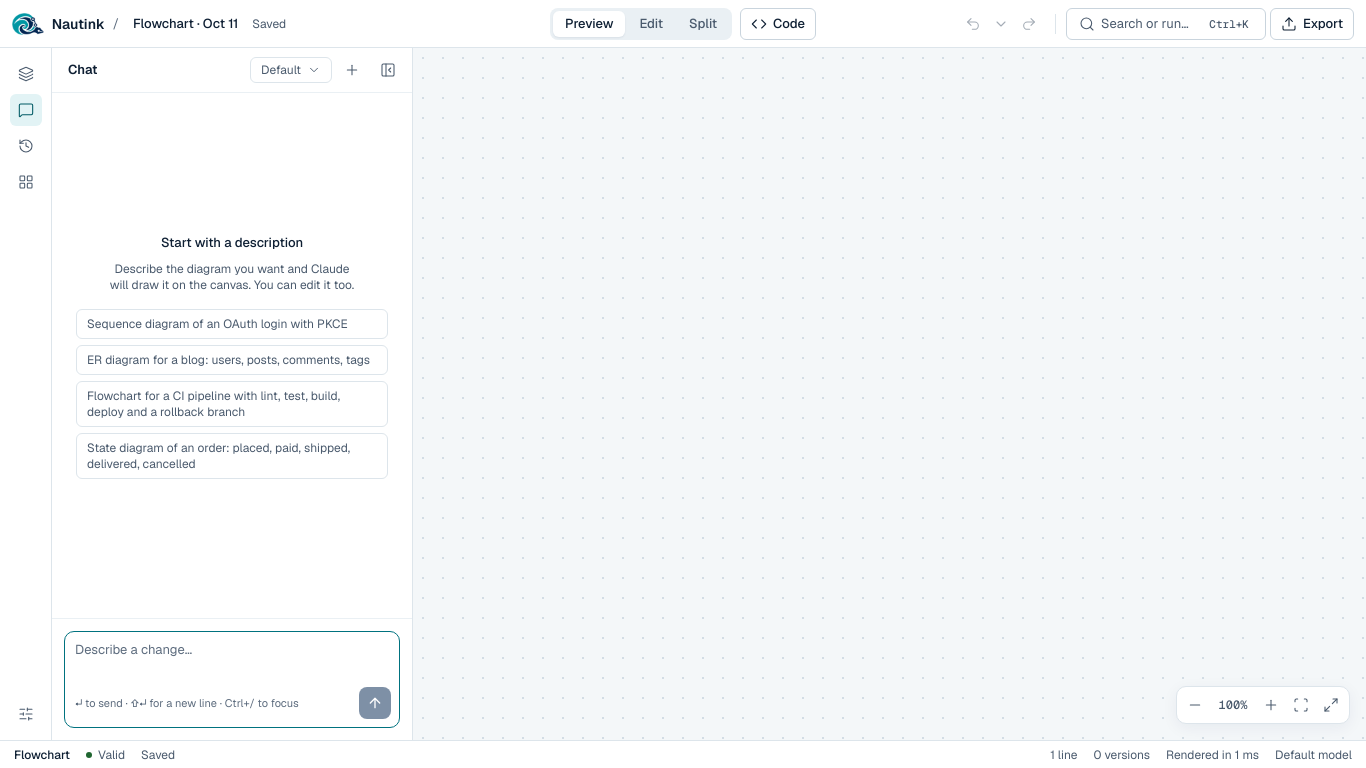
Test case: reviewing a change in the app › shows the bar and the waiting card, rejects, shows again and accepts with Enter
The width and height of the screenshot is (1366, 768).
Type keys "Change it"
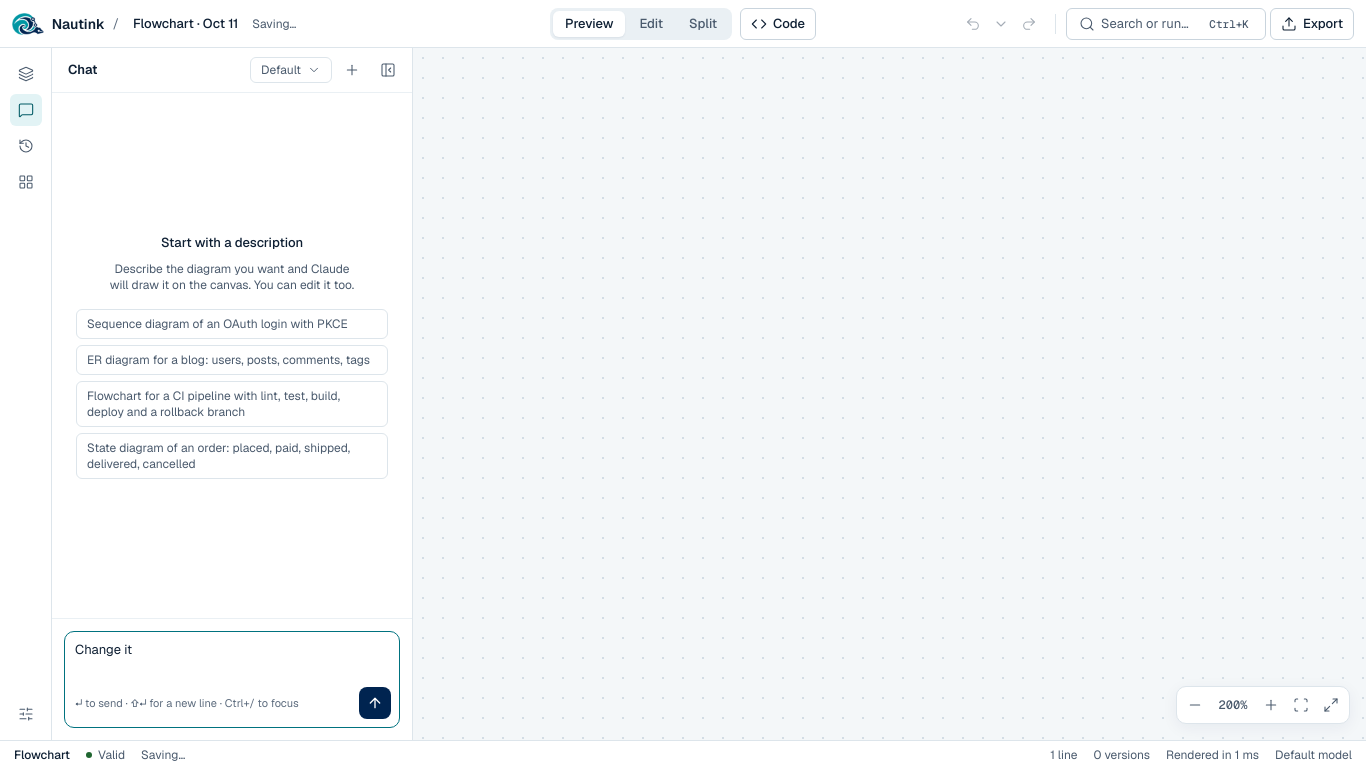
Type keys "{Meta>}{Enter}{/Meta}"
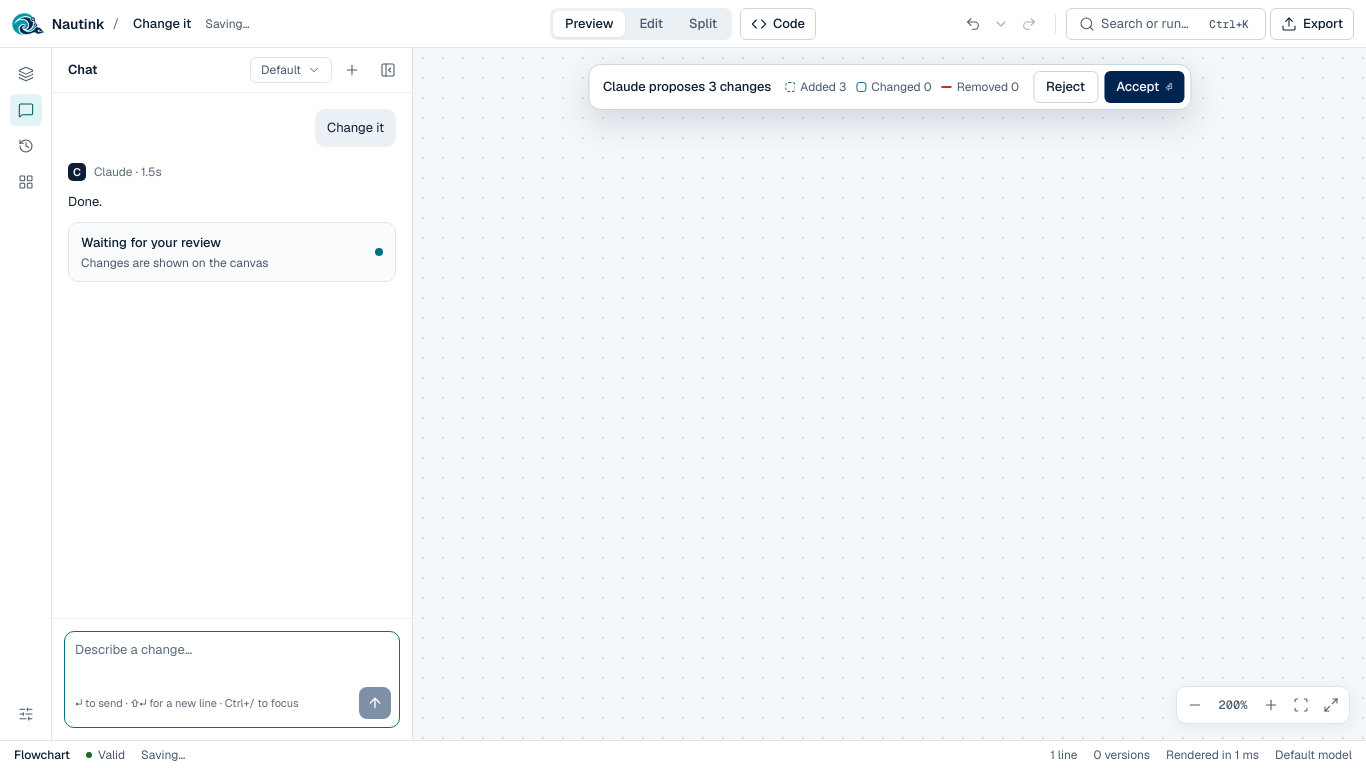
Check: the element named "Claude's proposal" shows "Claude proposes 3 changes", box [603,78,771,95]
Check: the text "Added 3" is shown, box [785,79,846,95]
Check: the text "Waiting for your review" is shown, box [81,234,221,251]
Click the button "Reject".
click(1066, 87)  # box [1033,71,1098,103]
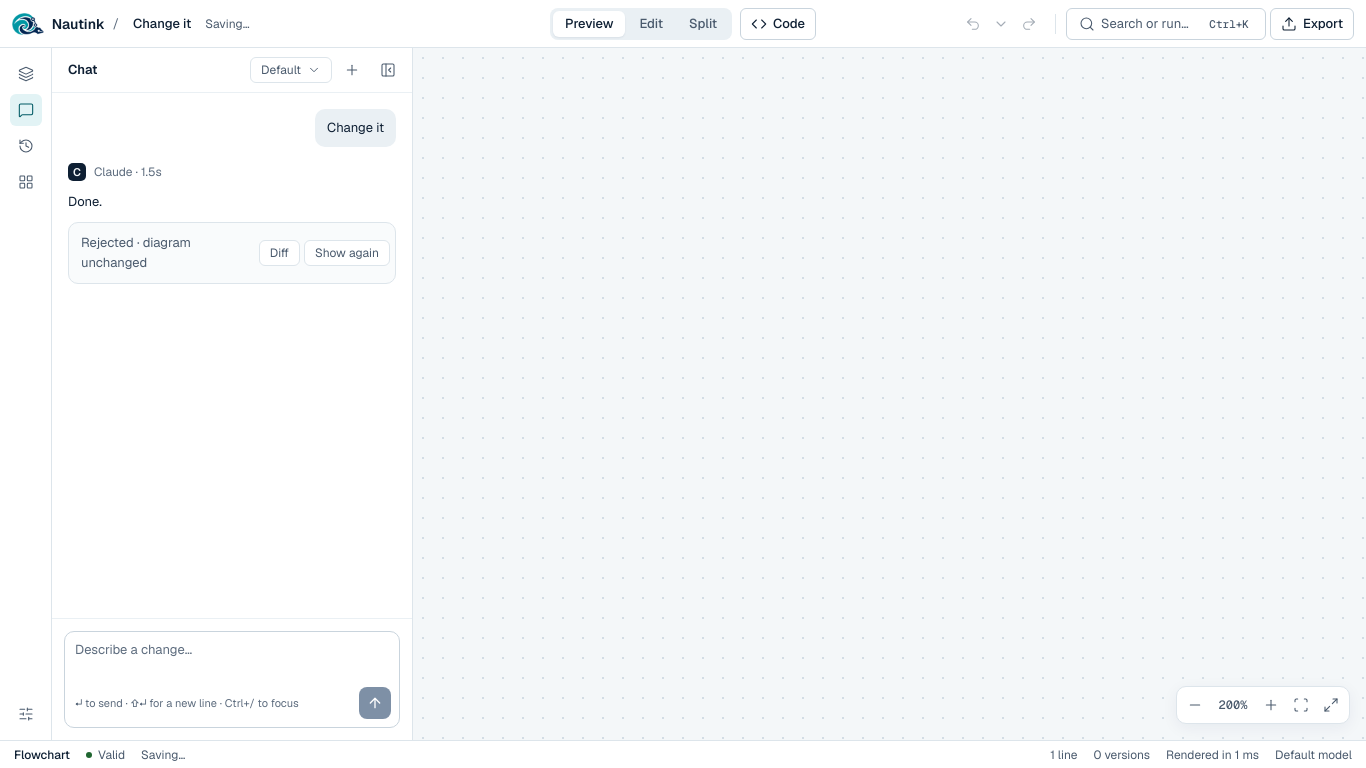
Check: the text "Rejected · diagram unchanged" is shown, box [81,234,191,271]
Click the button "Show again".
click(347, 253)  # box [304,240,390,266]
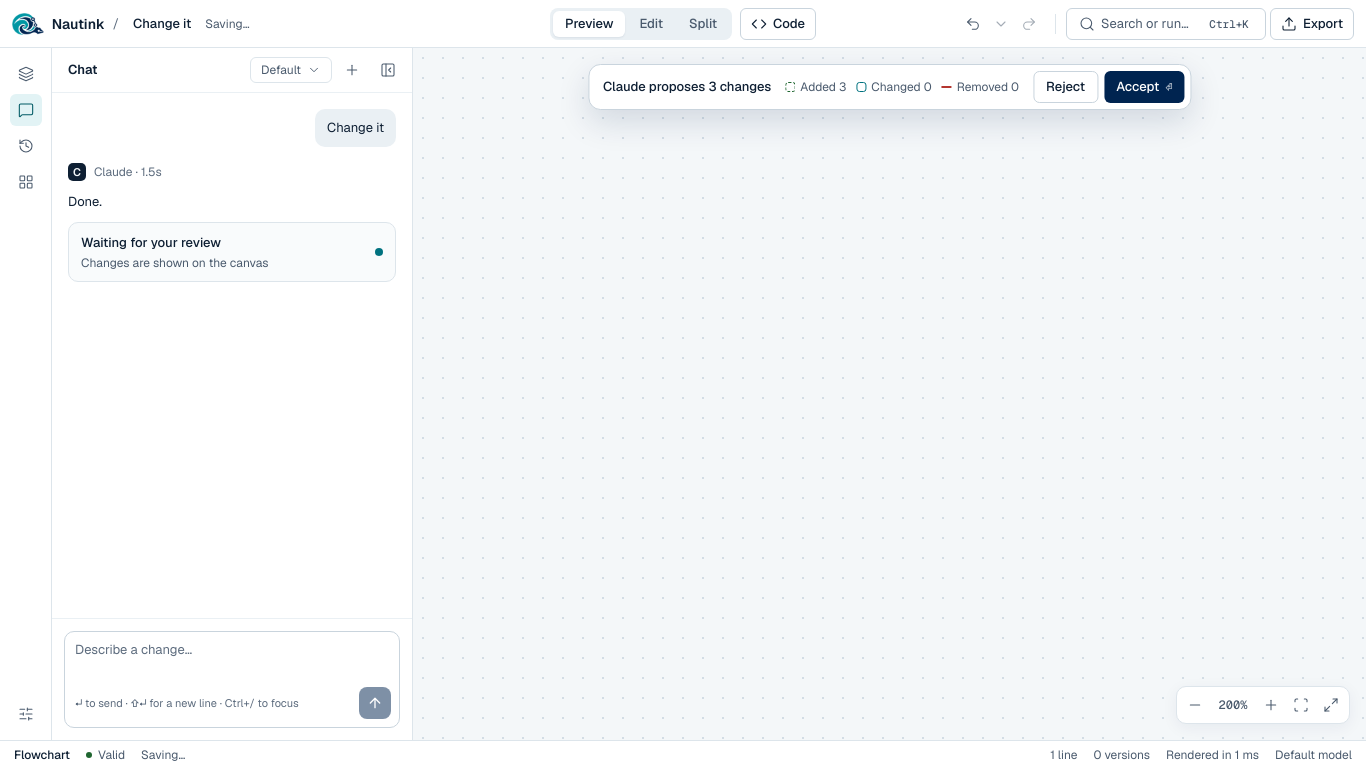
Press Enter
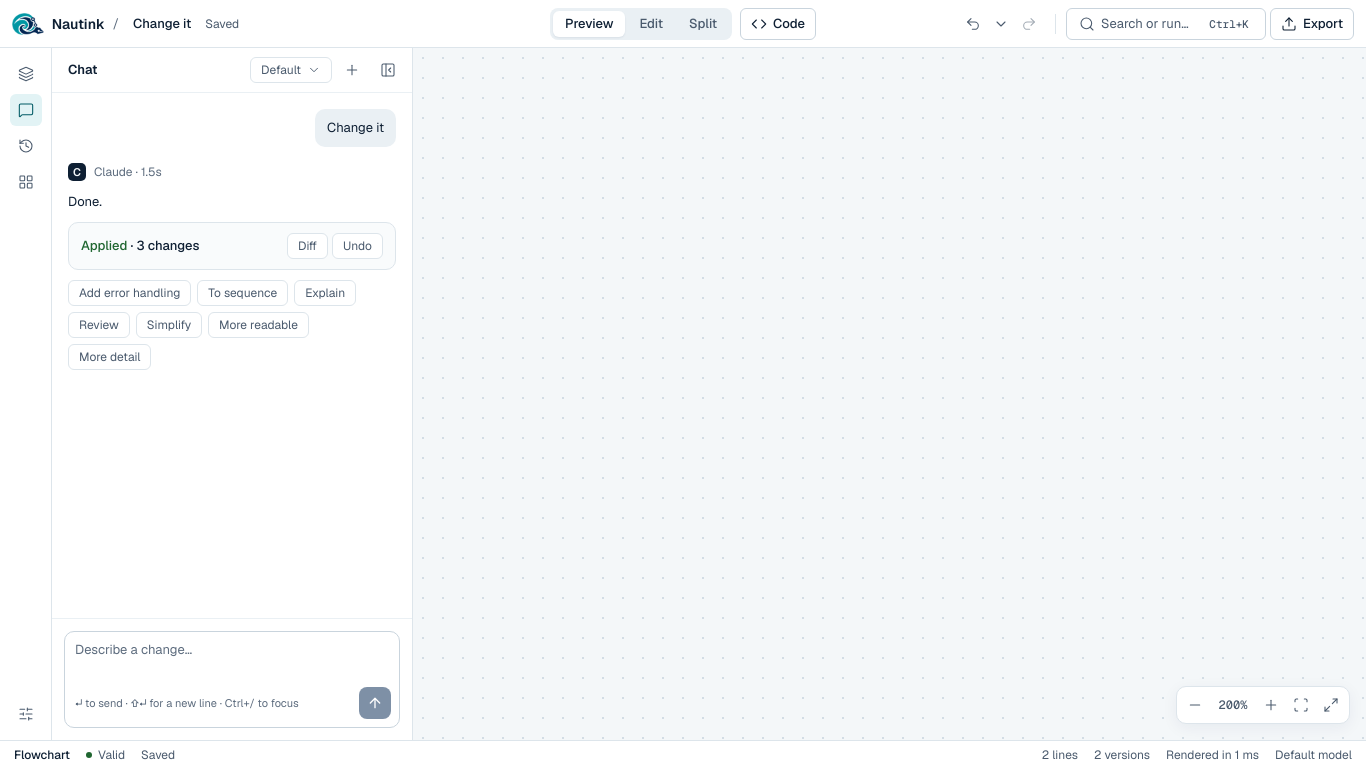
Check: the text "Applied · 3 changes" is shown, box [81,236,199,256]
